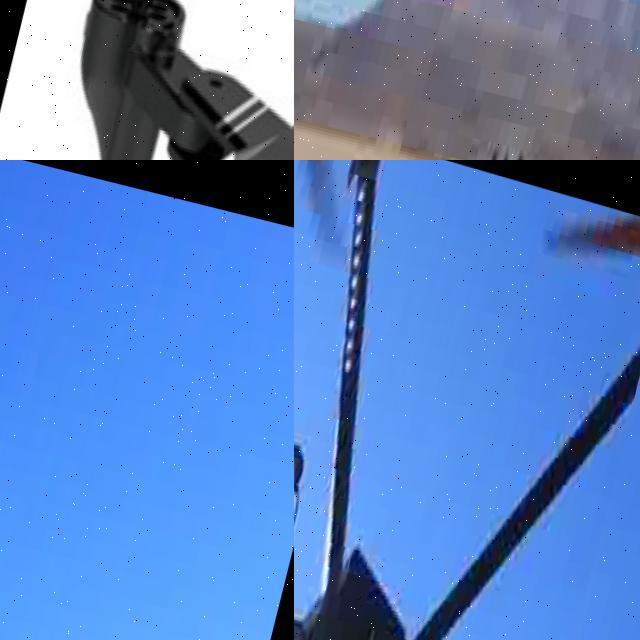drone: (294, 160, 640, 640), (0, 0, 294, 160)
